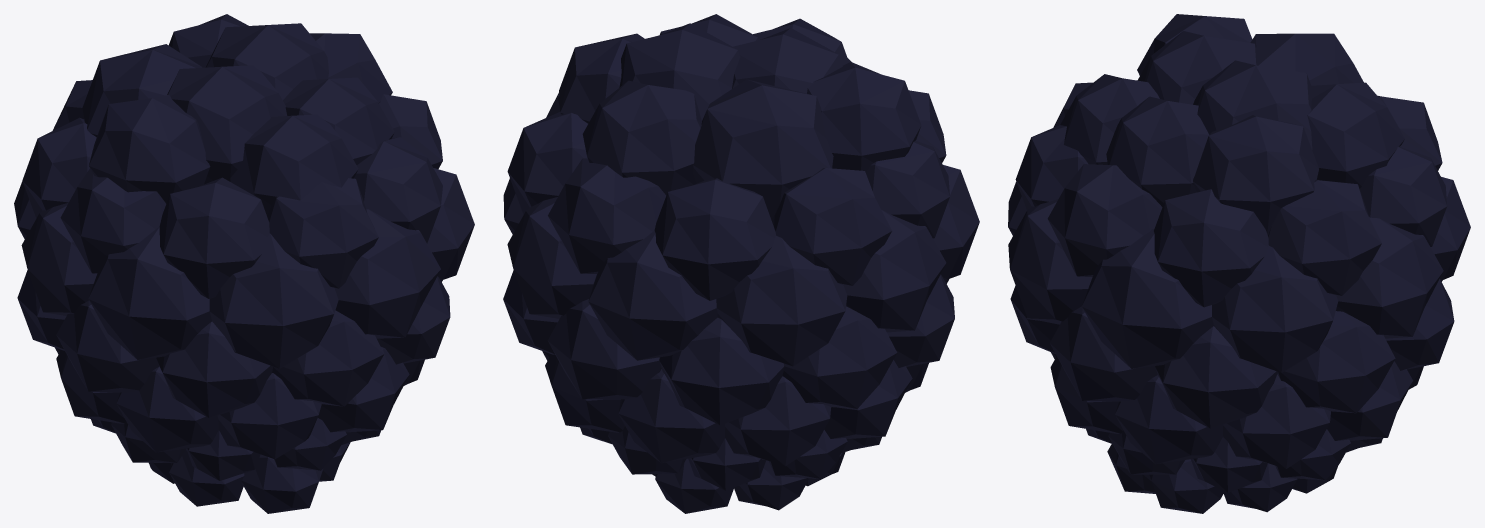
Rendered from blackberry.gltf.
3 views of the same model, side by side, from view 1: azimuth 30°, elevation 25°; view 2: azimuth 150°, elevation 25°; view 3: azimuth 270°, elevation 25° (orthographic). The views are drawn at different scales.
Visible parts, largest first — view 1: node-0; view 2: node-0; view 3: node-0.
Boxes of the visible parts, bbox=[...] form: node-0: bbox=[14, 14, 474, 513]; node-0: bbox=[503, 14, 979, 513]; node-0: bbox=[1008, 14, 1470, 513].
Bounding box in the file's own units: 1.13 × 1.19 × 1.12.
